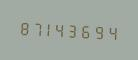eight: (17, 17, 29, 37)
four: (56, 19, 68, 39), (108, 22, 120, 42)
nine: (95, 21, 107, 42)
one: (43, 18, 55, 39)
seven: (30, 17, 42, 38)
six: (82, 20, 94, 41)
three: (69, 20, 81, 40)
